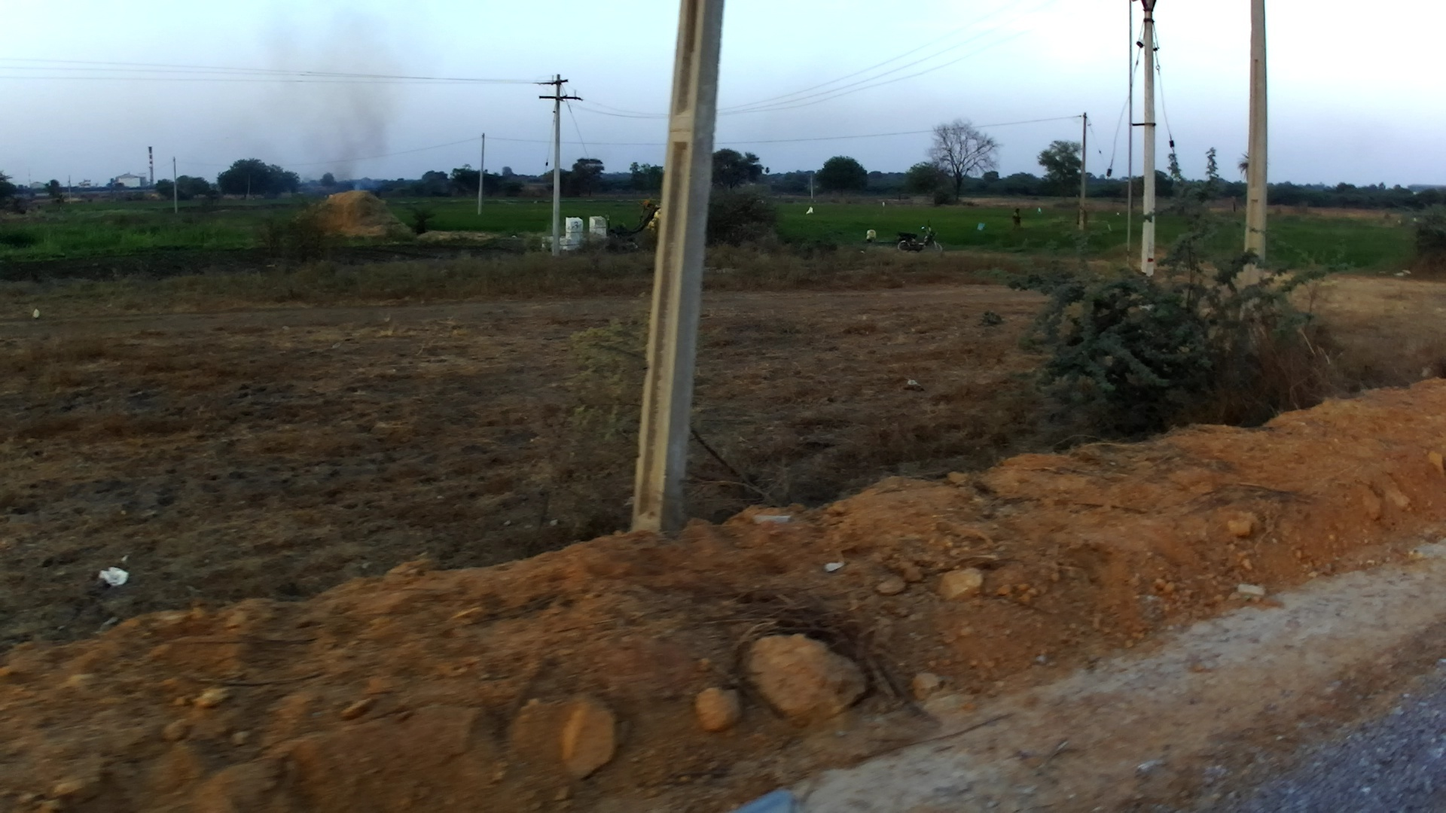motorcycle: (894, 220, 943, 253)
person: (1011, 206, 1023, 229)
